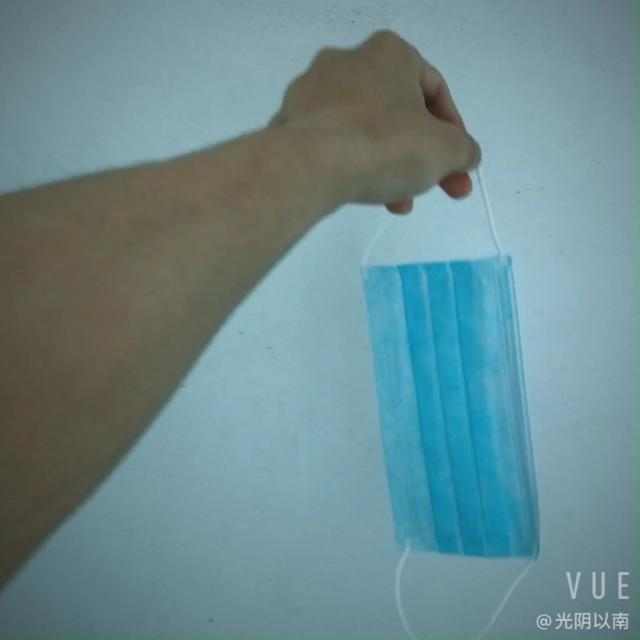face mask: (342, 235, 558, 570)
